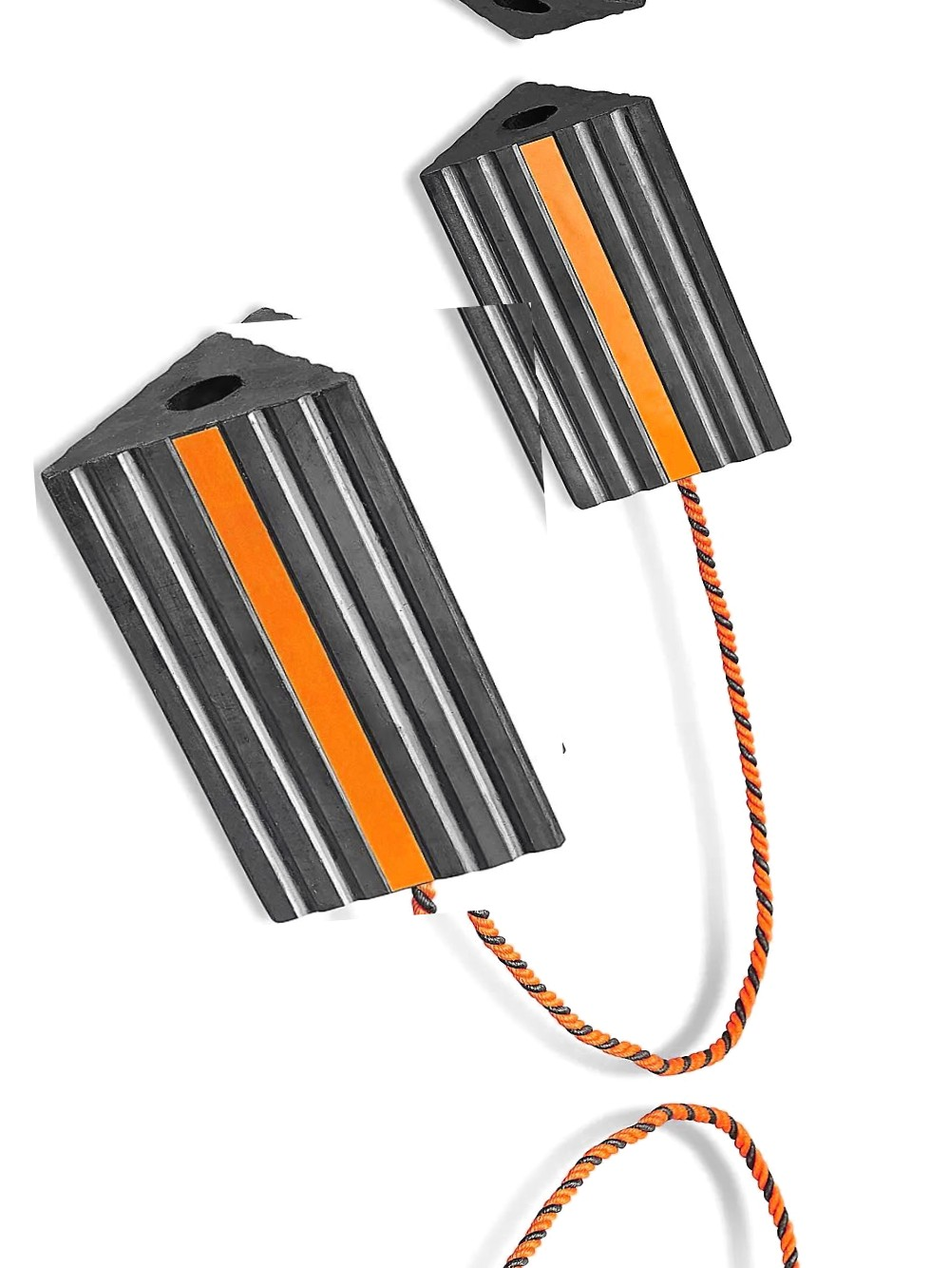chock: (24, 302, 574, 940), (94, 282, 573, 838), (408, 63, 798, 523), (237, 550, 507, 864)
